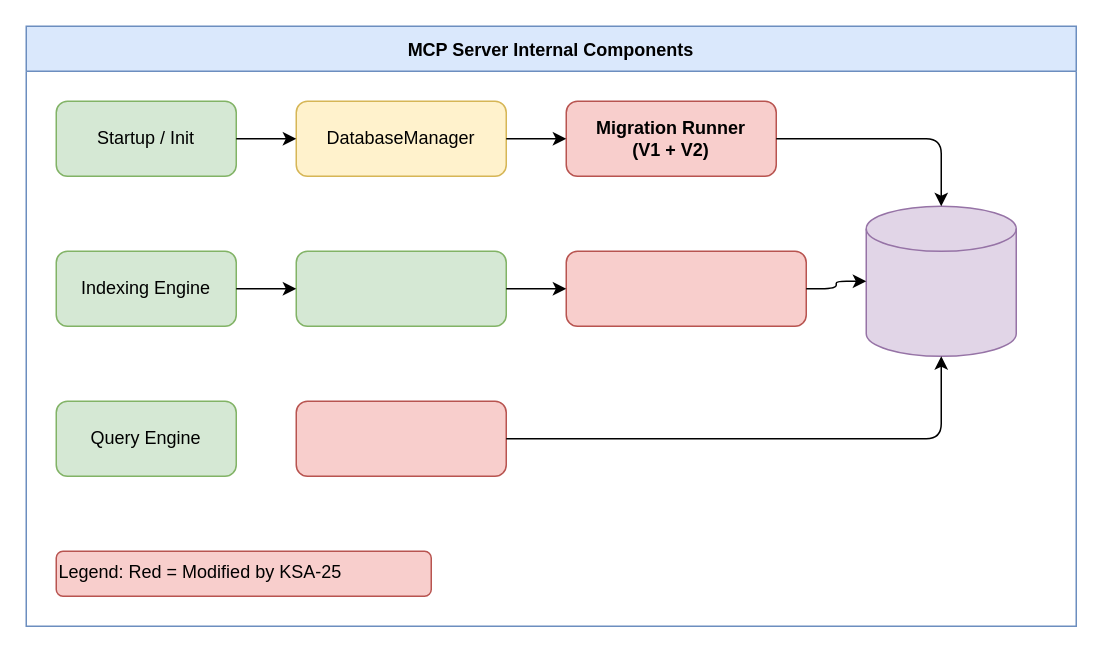
The diagram is 1103 pixels wide and 653 high, and some of its shapes have lost their labels. The shapes that lost their labels are listed below. From the top down, each one's centre as x and y in pixels, then its label:
the point at 400,288: Pattern Detector
the point at 685,288: Module Writer (writes pattern cols)
the point at 940,280: SQLite DB (index.db)
the point at 400,438: MCP Tools (get_module_info)
